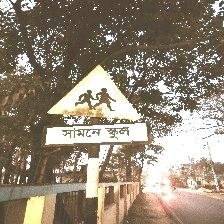School-in-front: (43, 64, 147, 148)
